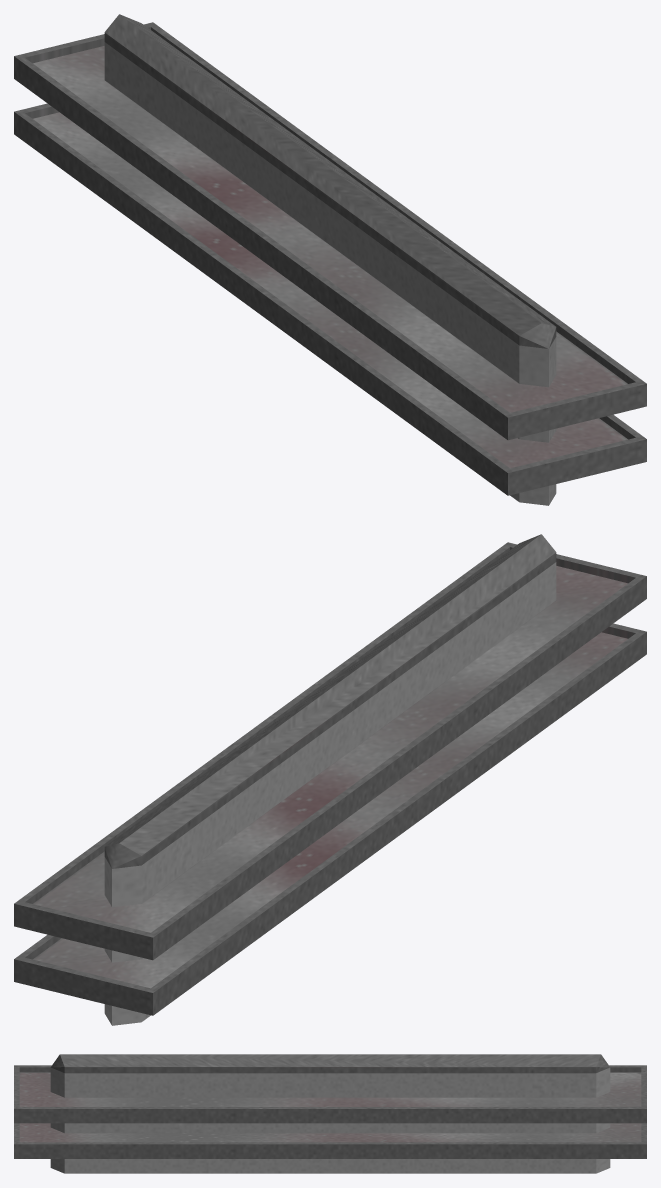
The model's file is LP_STORERACKS.fbx.
3 views of the same model, one above another, from view 1: azimuth 30°, elevation 25°; view 2: azimuth 150°, elevation 25°; view 3: azimuth 270°, elevation 25° (orthographic). The views are drawn at different scales.
Visible parts, largest first — view 1: Cube; view 2: Cube; view 3: Cube.
Boxes of the visible parts, x1,y1,x2,y2 form: Cube: (14, 14, 646, 505); Cube: (14, 534, 646, 1025); Cube: (14, 1054, 646, 1173).
Bounding box in the file's own units: 751 × 914 × 4616.
